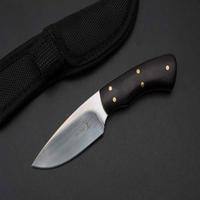knife: (27, 52, 191, 175)
